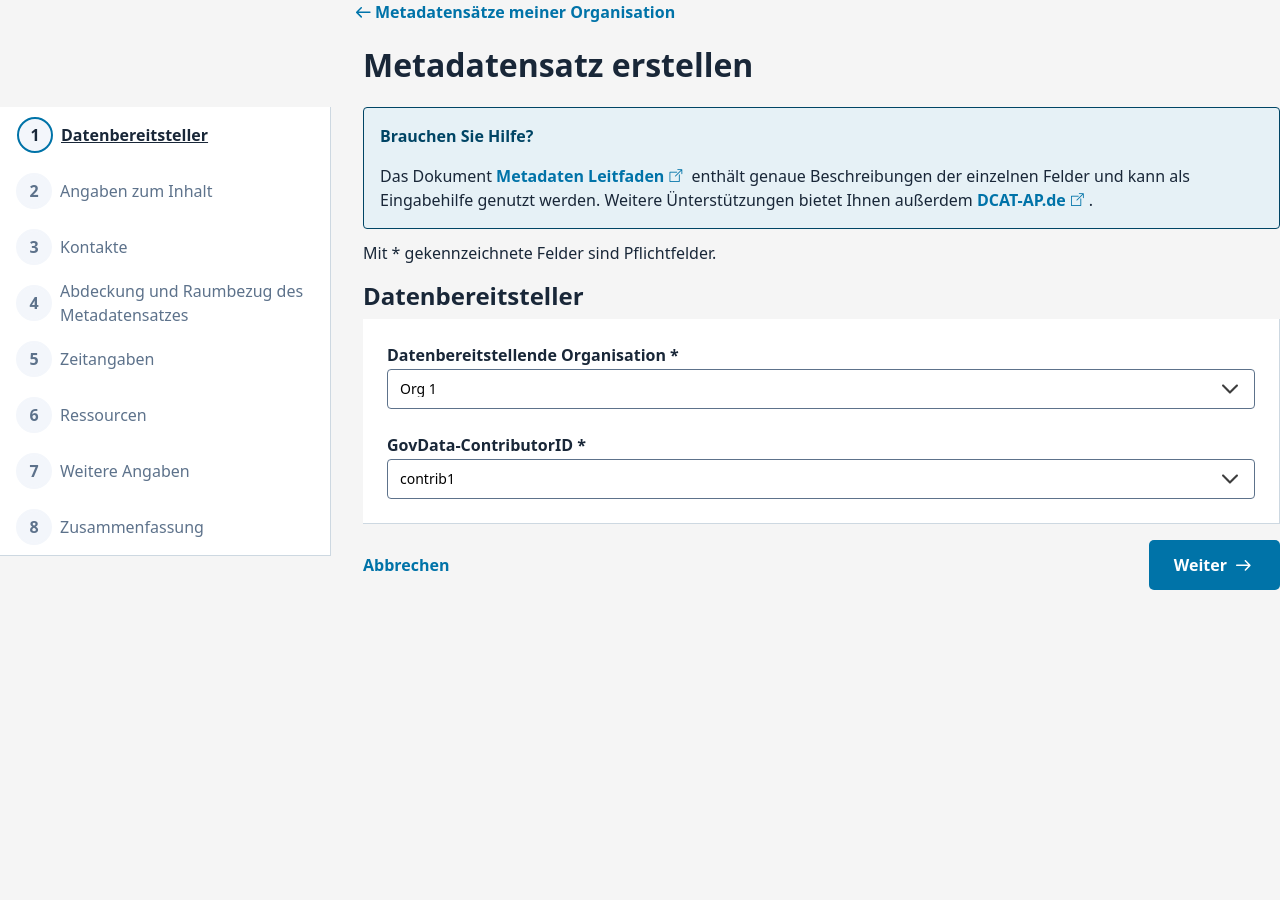
Test: MetadataForm › should report validity of inputs and go to next step if all is valid
Click the button "Weiter". click: (1214, 565)
box: left=1149, top=540, right=1279, bottom=590
(page scrolled)
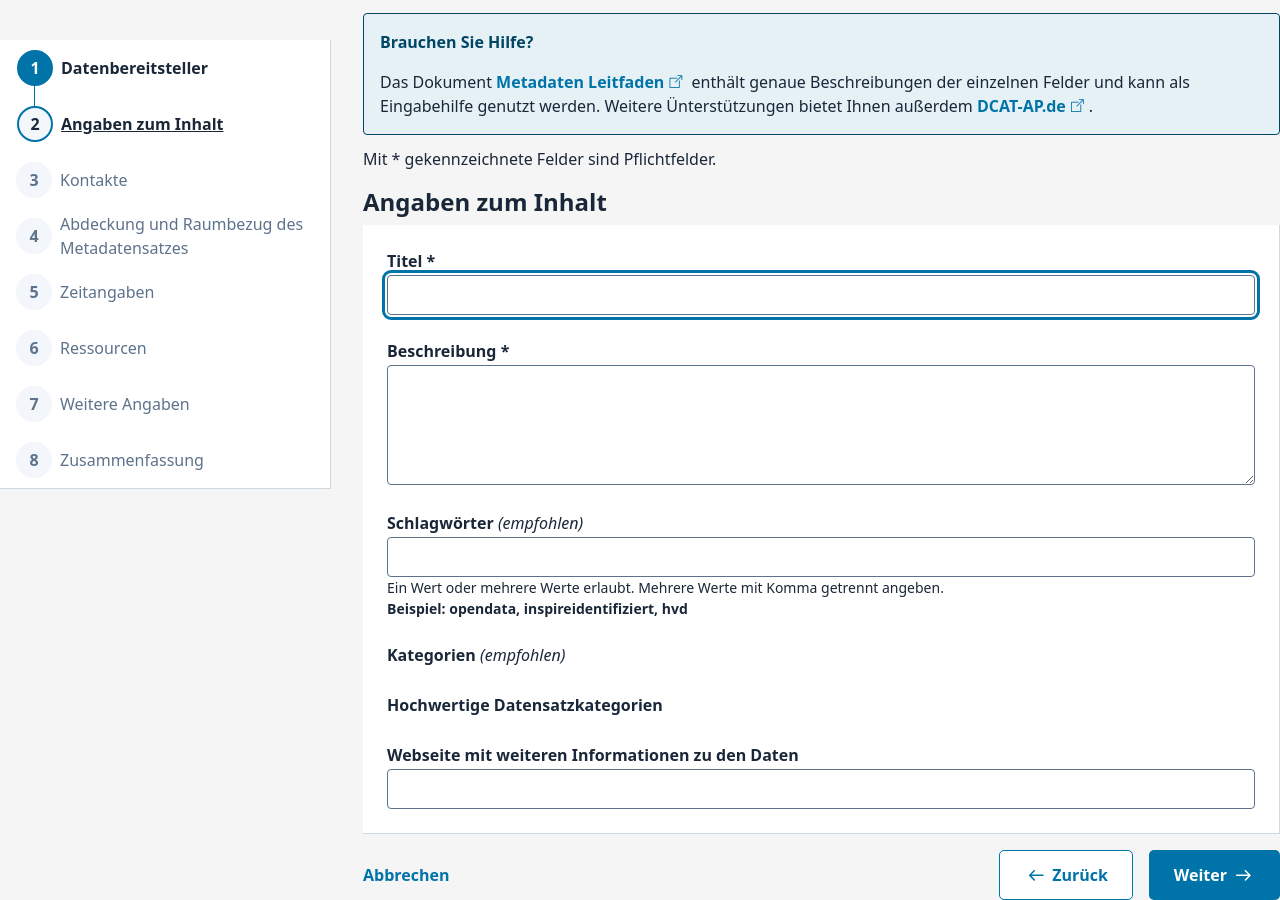
Check: the heading "Angaben zum Inhalt" is shown, box left=363, top=185, right=607, bottom=218
Click the button "Weiter". click: (1214, 875)
box: left=1149, top=850, right=1279, bottom=899
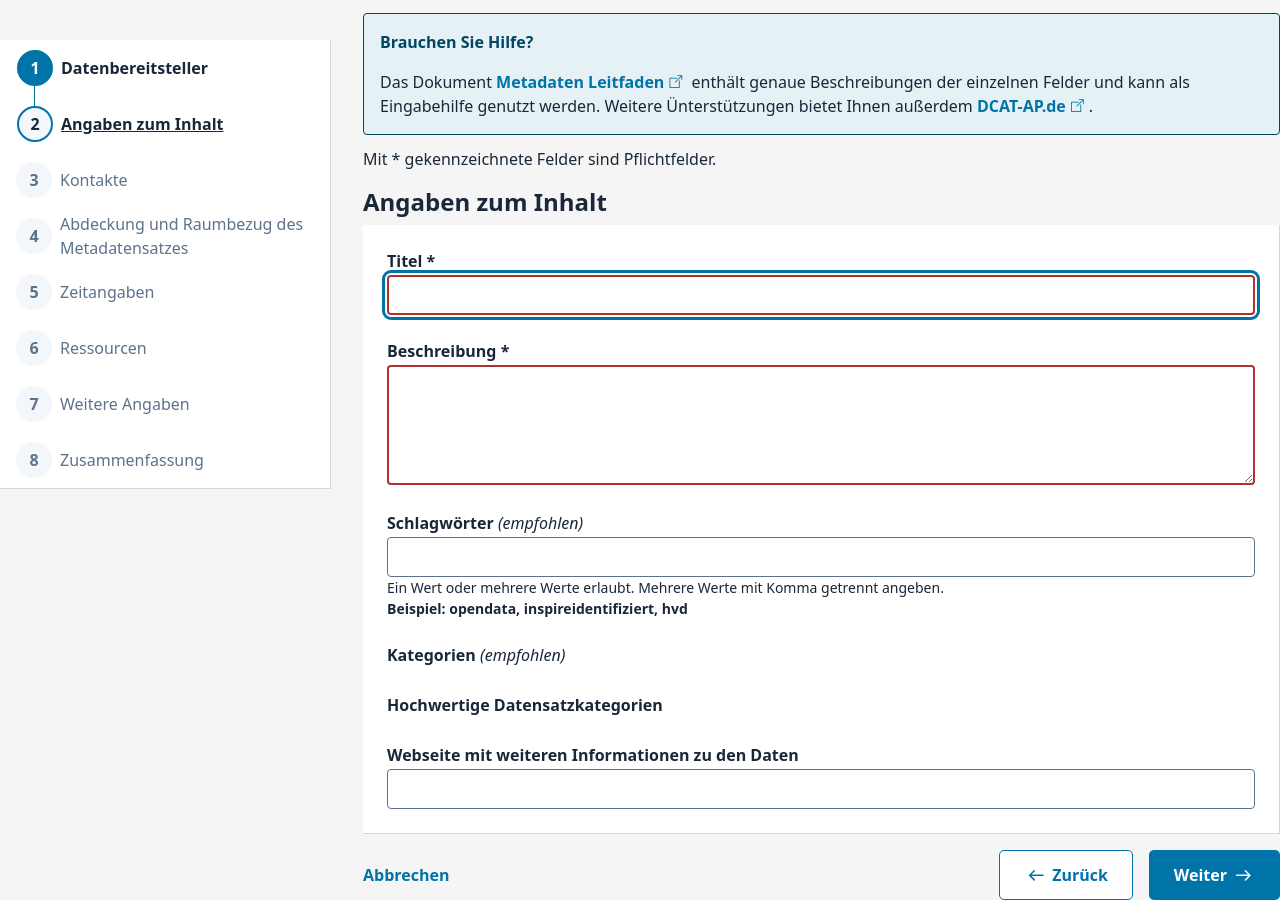
Type "test" into the field labelled "Titel *". click: (821, 295)
box: left=387, top=275, right=1255, bottom=315
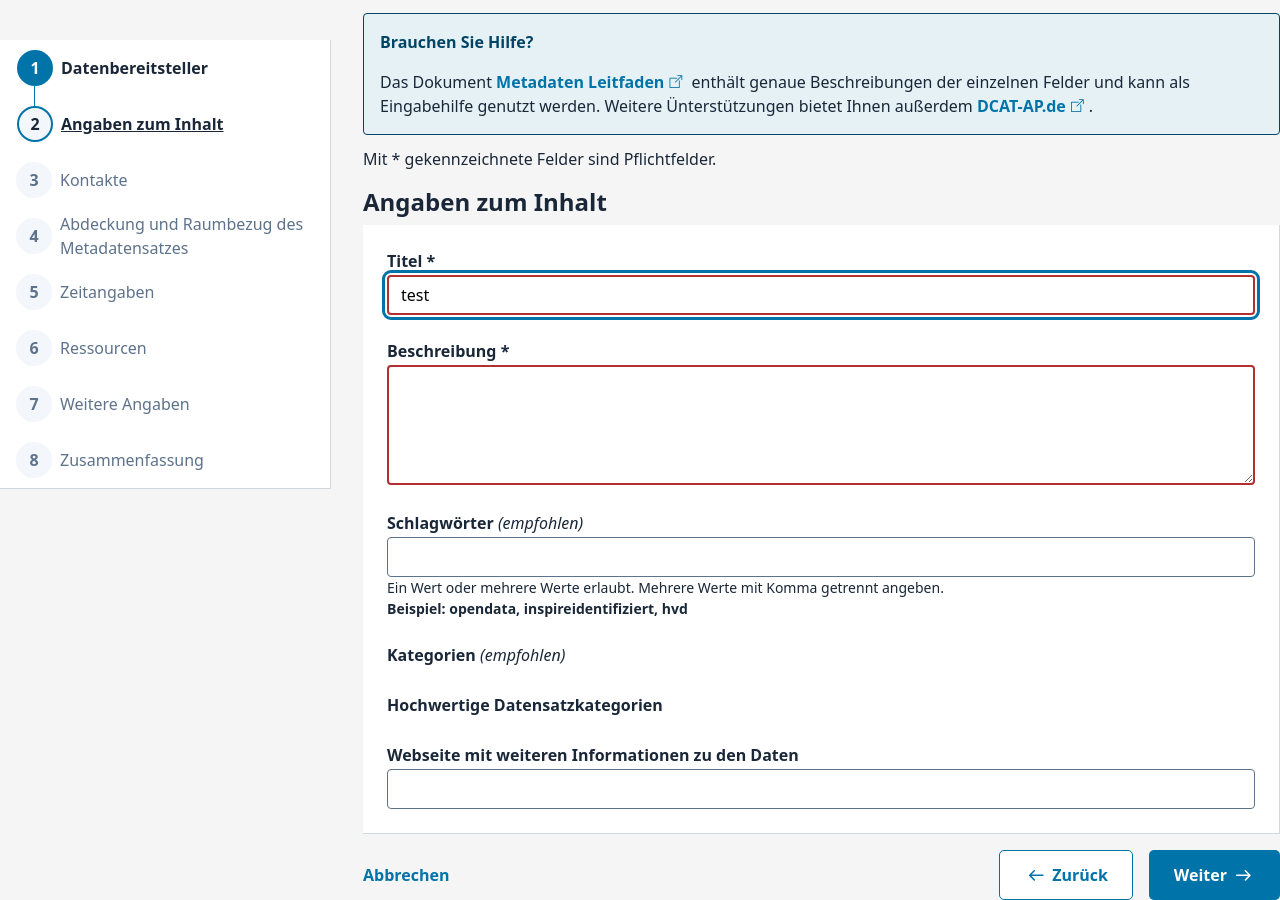
Type "test" into the text box labelled "Beschreibung *". click: (821, 425)
box: left=387, top=365, right=1255, bottom=485
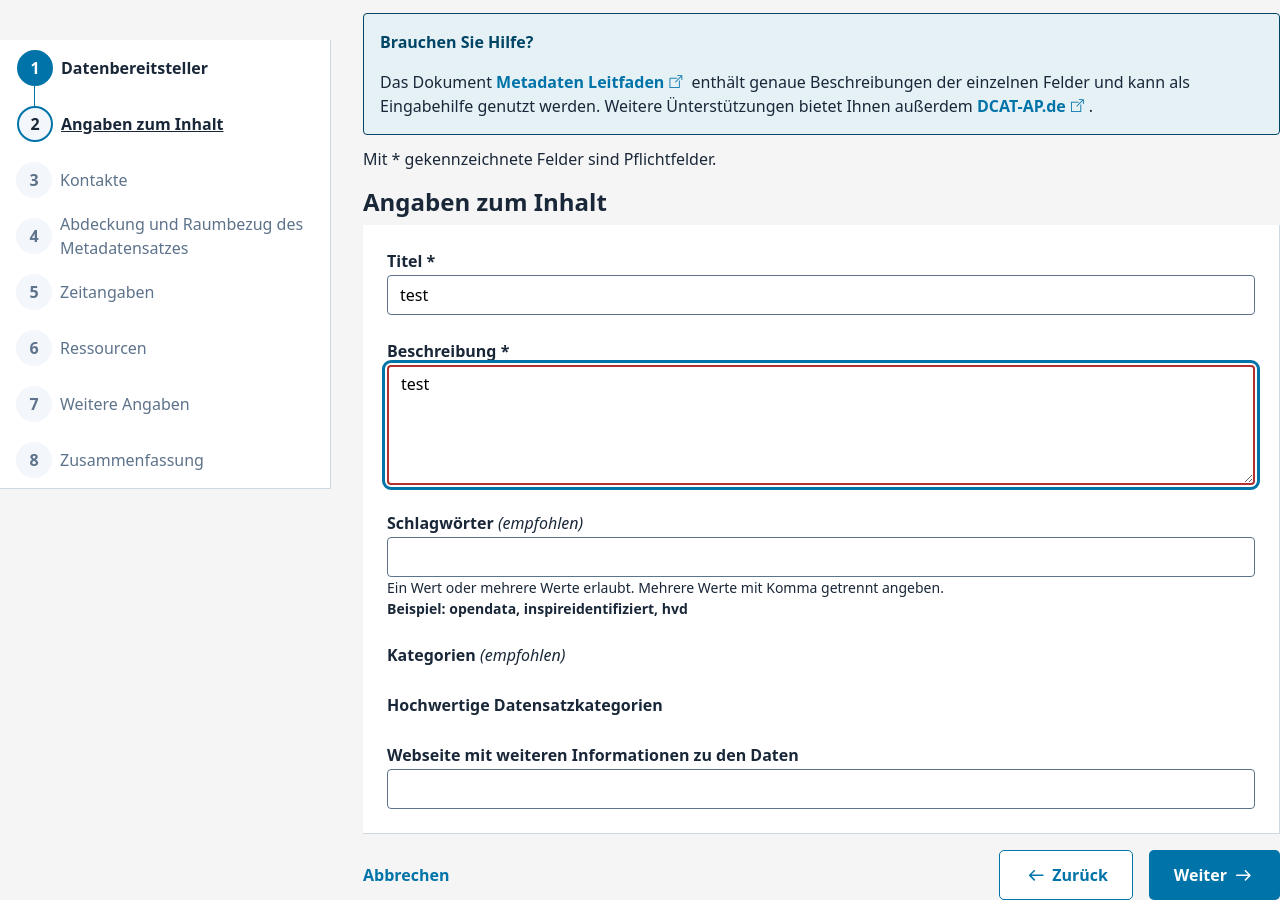
Press Tab
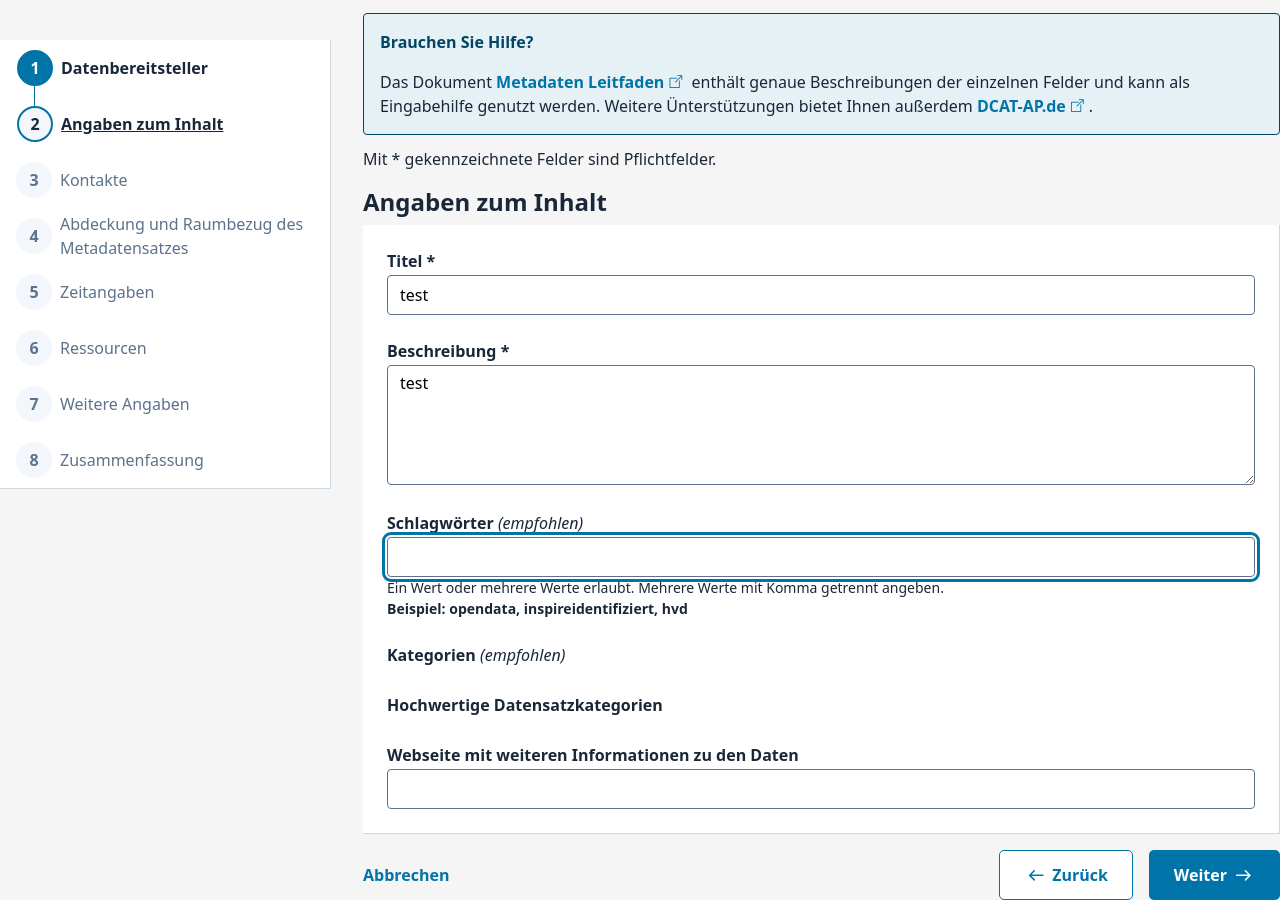
Check: the field labelled "Titel *" does not have class "gd-input-invalid", box left=387, top=275, right=1255, bottom=315
Check: the text box labelled "Beschreibung *" does not have class "gd-input-invalid", box left=387, top=365, right=1255, bottom=485
Click the button "Weiter". click: (1214, 875)
box: left=1149, top=850, right=1279, bottom=899
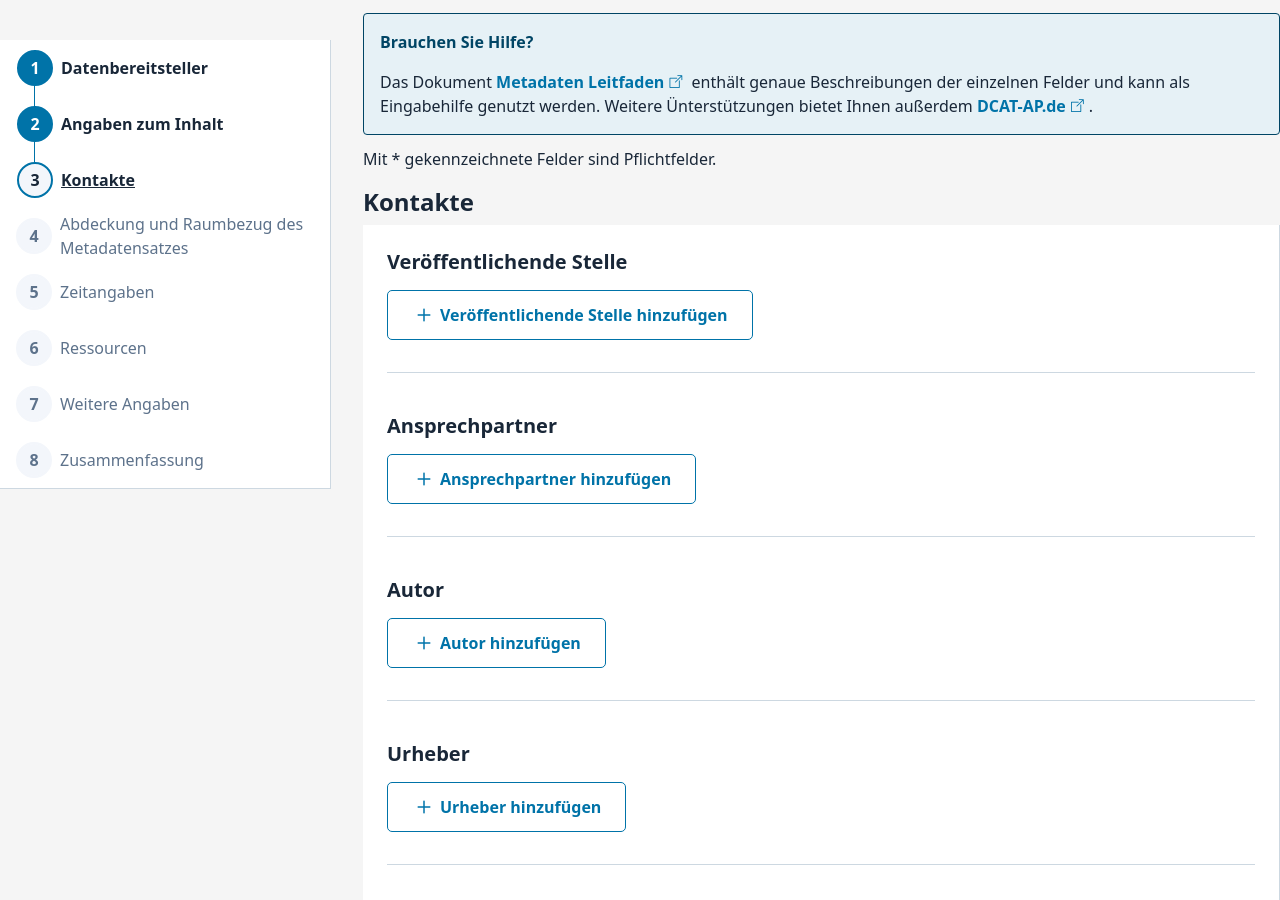
Check: the heading "Kontakte" is shown, box left=363, top=185, right=474, bottom=218
